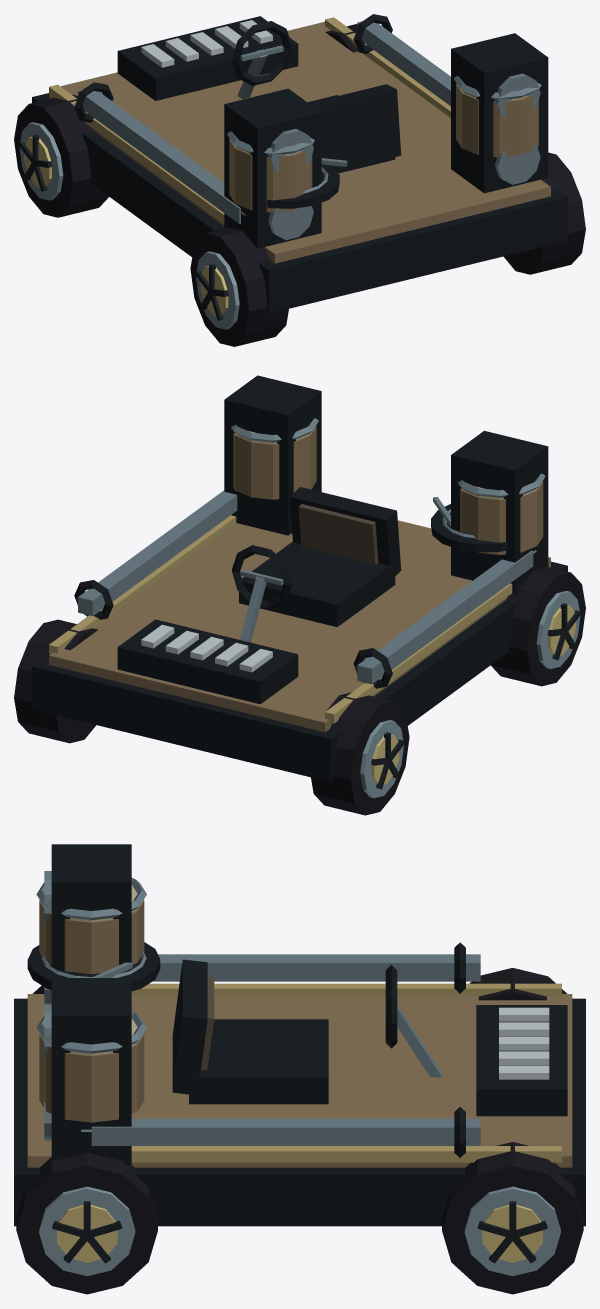
The model's file is kart.glb.
The picture shows the model from 3 angles, top to bottom: view 1: azimuth 30°, elevation 25°; view 2: azimuth 150°, elevation 25°; view 3: azimuth 270°, elevation 25°; orthographic projection. The views are drawn at different scales.
Visible parts, largest first — view 1: identity-stage-stage-platform-and-pa-towers, identity-stage-motif-pipes, identity-stage-motif-drums, identity-stage-driver-cockpit, wheel-rear-left, wheel-front-left, wheel-rear-right, identity-stage-motif-vinyl; view 2: identity-stage-stage-platform-and-pa-towers, identity-stage-driver-cockpit, identity-stage-motif-pipes, identity-stage-motif-drums, wheel-front-left, wheel-rear-left, wheel-front-right, identity-stage-motif-vinyl; view 3: identity-stage-stage-platform-and-pa-towers, identity-stage-motif-pipes, identity-stage-driver-cockpit, wheel-front-right, wheel-rear-right, identity-stage-motif-drums, identity-stage-motif-vinyl, wheel-front-left.
Part boxes in pixels (x1,y1,x2,y2): identity-stage-stage-platform-and-pa-towers: (32,16,567,313); identity-stage-motif-pipes: (74,14,450,223); identity-stage-motif-drums: (227,76,541,212); identity-stage-driver-cockpit: (231,21,401,173); wheel-rear-left: (190,227,288,346); wheel-front-left: (14,94,108,217); wheel-rear-right: (503,152,585,274); identity-stage-motif-vinyl: (267,158,347,208); identity-stage-stage-platform-and-pa-towers: (32,375,567,782); identity-stage-driver-cockpit: (231,487,401,642); identity-stage-motif-pipes: (74,490,536,688); identity-stage-motif-drums: (231,418,545,554); wheel-front-left: (311,692,409,815); wheel-rear-left: (491,567,585,686); wheel-front-right: (14,619,97,743); identity-stage-motif-vinyl: (431,496,507,552); identity-stage-stage-platform-and-pa-towers: (14,844,585,1226); identity-stage-motif-pipes: (81,942,480,1157); identity-stage-driver-cockpit: (172,959,441,1104); wheel-front-right: (442,1142,583,1294); wheel-rear-right: (16,1152,157,1294); identity-stage-motif-drums: (36,878,146,1122); identity-stage-motif-vinyl: (27,942,160,991); wheel-front-left: (469,968,567,1000).
Size of the model in its own units: 2.16 by 1.28 by 2.5.
